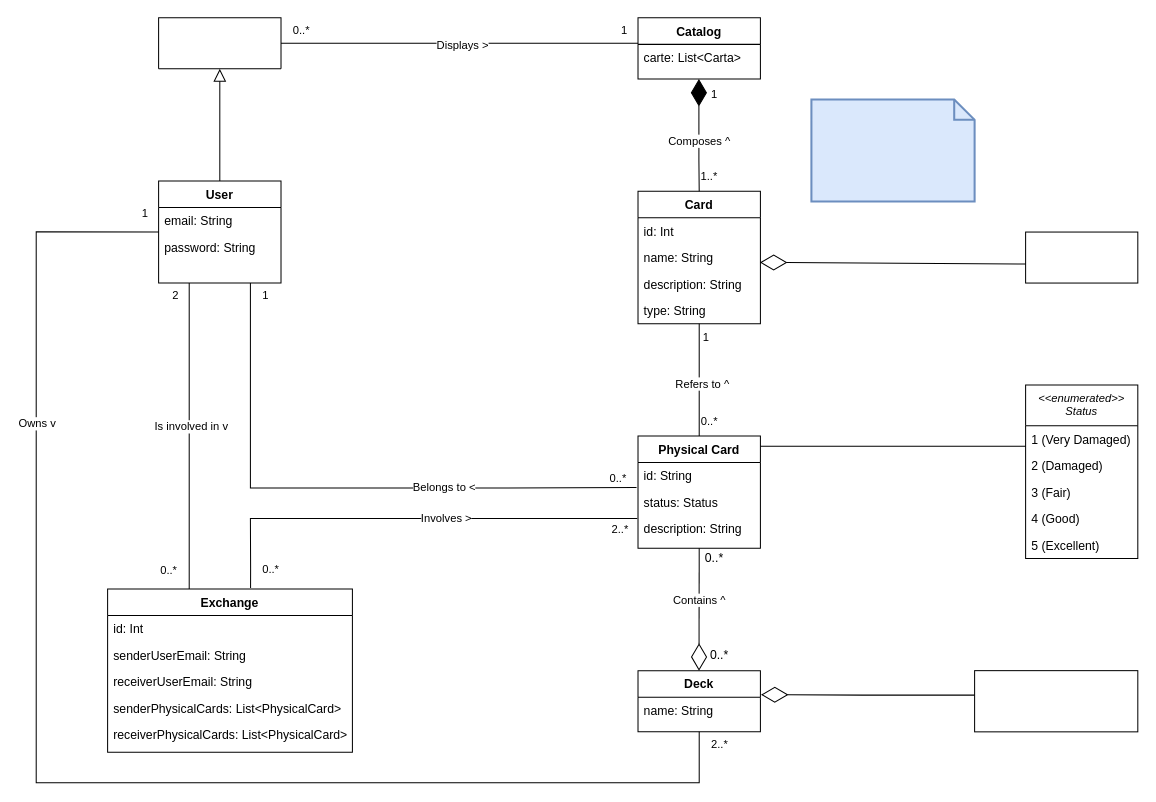
The diagram is 1156 pixels wide and 802 high, and some of its shapes have lost their labels. The centre of each missing label's shape, as x and y in pixels:
physicalCard: PhysicalCard: point 1056,701
variant: String: point 1081,257
Visitor: point 219,43
«Annotation» Card is rapresentative for - MagicCard - PokemonCard - YuGiHoCard: point 892,150
